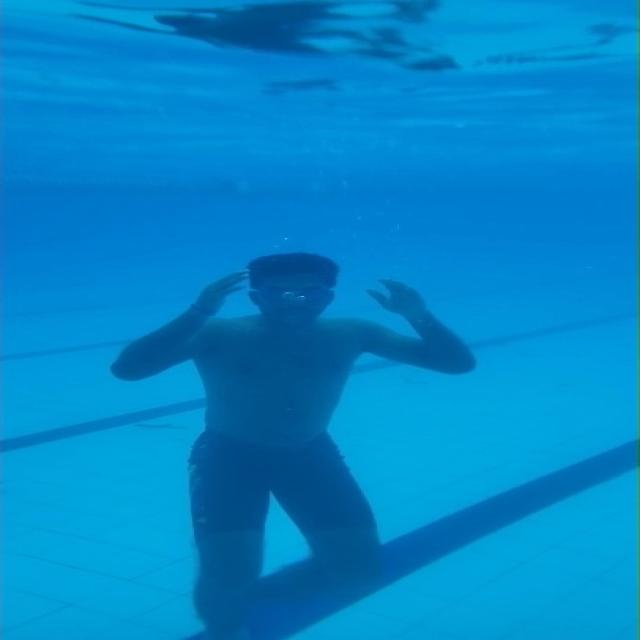Drowning: (108, 251, 477, 640)
